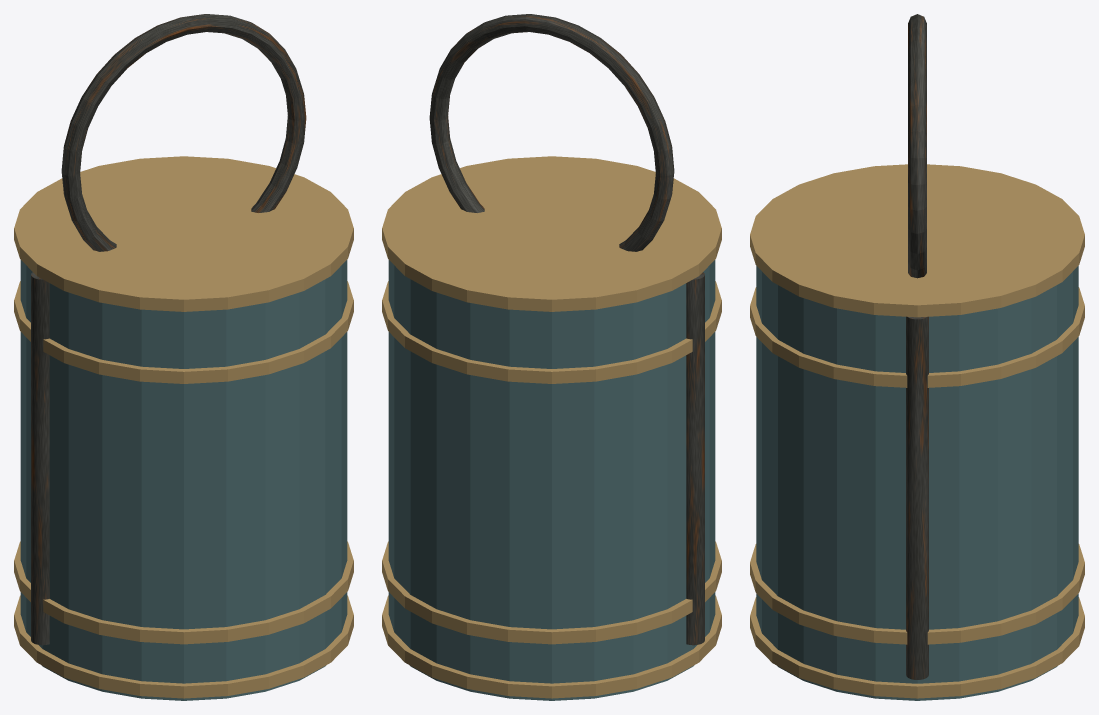
File: lentera.glb
3 renders of one model, left to right at view 1: azimuth 30°, elevation 25°; view 2: azimuth 150°, elevation 25°; view 3: azimuth 270°, elevation 25°, orthographic.
Parts seen in each view (by area): view 1: Badan.005, Cincin.023, Pegangan.001, Sangkar, Cincin.020, Cincin.021, Cincin.022; view 2: Badan.005, Cincin.023, Pegangan.001, Sangkar, Cincin.020, Cincin.021, Cincin.022; view 3: Badan.005, Cincin.023, Sangkar.001, Cincin.020, Cincin.021, Cincin.022, Pegangan.001.
Part boxes in pixels (<box>): Badan.005: <box>20,260,347,700</box>; Cincin.023: <box>14,156,353,311</box>; Pegangan.001: <box>61,14,306,251</box>; Sangkar: <box>31,272,49,645</box>; Cincin.020: <box>14,595,353,698</box>; Cincin.021: <box>14,541,353,644</box>; Cincin.022: <box>14,281,353,383</box>; Badan.005: <box>388,260,715,700</box>; Cincin.023: <box>382,156,721,311</box>; Pegangan.001: <box>429,14,674,251</box>; Sangkar: <box>686,272,704,645</box>; Cincin.020: <box>382,595,721,698</box>; Cincin.021: <box>382,541,721,644</box>; Cincin.022: <box>382,281,721,383</box>; Badan.005: <box>756,266,1078,700</box>; Cincin.023: <box>750,164,1084,317</box>; Sangkar.001: <box>906,316,928,679</box>; Cincin.020: <box>750,597,1084,698</box>; Cincin.021: <box>750,544,1084,644</box>; Cincin.022: <box>750,287,1084,387</box>; Pegangan.001: <box>908,14,926,278</box>.
Bounding box in the file's own units: 0.182 × 0.353 × 0.1768.
4 materials, 1 textured.
